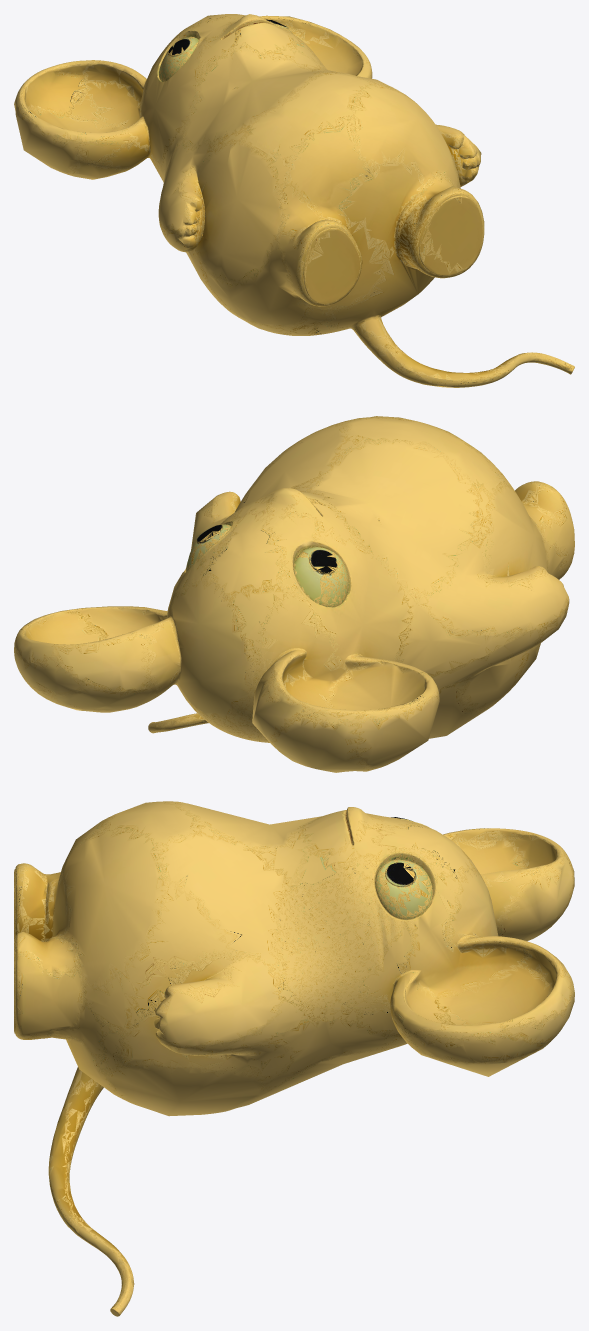
Rendered from naishu.glb.
3 views of the same model, one above another, from view 1: azimuth 30°, elevation 25°; view 2: azimuth 150°, elevation 25°; view 3: azimuth 270°, elevation 25° (orthographic). The views are drawn at different scales.
Bounding box in the file's own units: 0.8298 × 0.6764 × 0.8908.
Materials: 1 (1 with a texture image).
